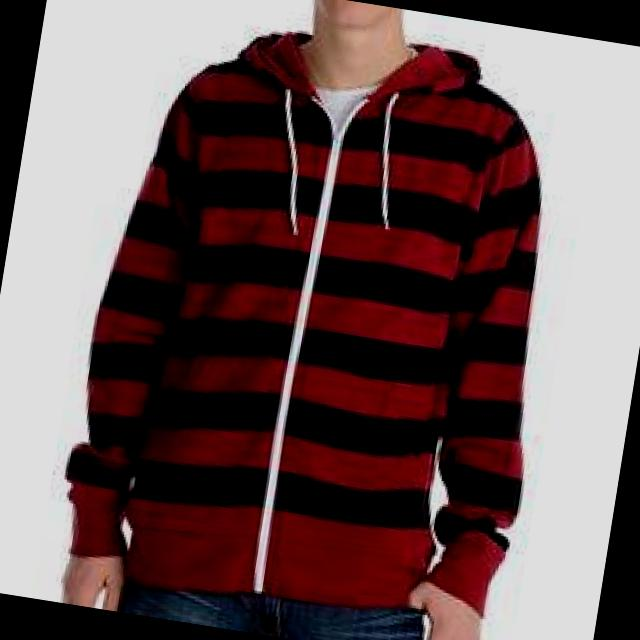sweater: (51, 2, 586, 640)
